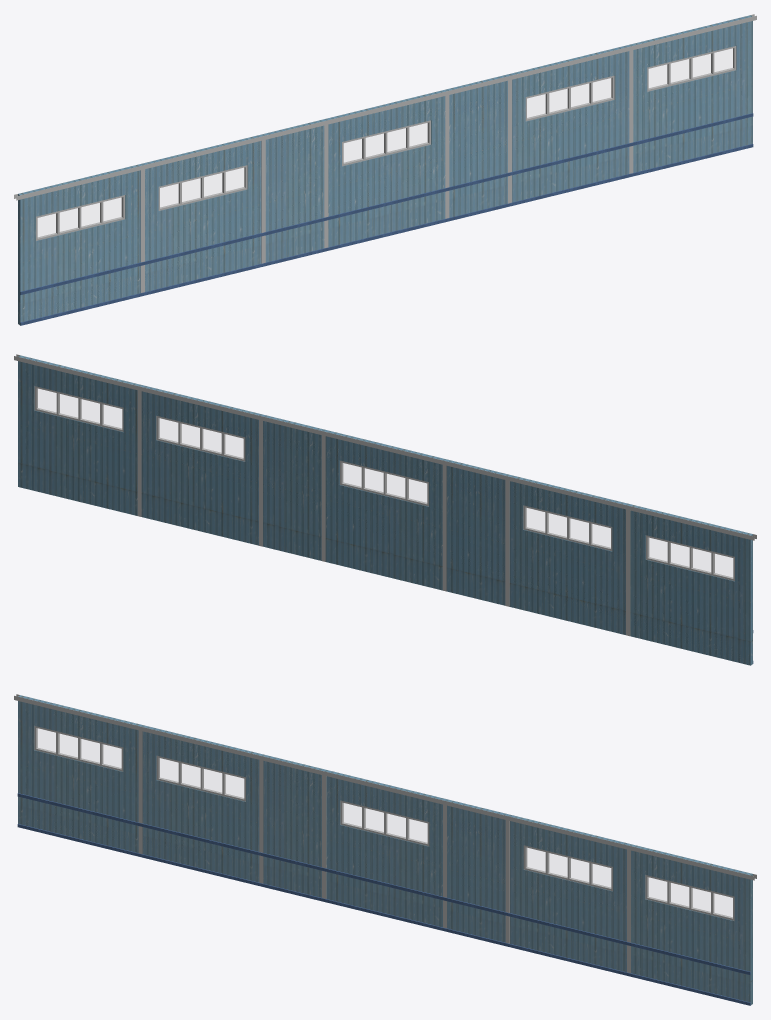
The model's file is WarehauseWallLeft.FBX.
3 views of the same model, one above another, from view 1: azimuth 30°, elevation 25°; view 2: azimuth 150°, elevation 25°; view 3: azimuth 330°, elevation 25° (orthographic).
Visible parts, largest first — view 1: WarehauseWallLeft, WarehauseMetal01, WarehauseMetal02, WarehauseWindows; view 2: WarehauseWallLeft, WarehauseMetal01, WarehauseWindows; view 3: WarehauseWallLeft, WarehauseMetal01, WarehauseMetal02, WarehauseWindows.
Boxes of the visible parts, x1,y1,x2,y2 form: WarehauseWallLeft: [18, 15, 752, 325]; WarehauseMetal01: [14, 14, 756, 292]; WarehauseMetal02: [20, 113, 753, 325]; WarehauseWindows: [36, 46, 736, 240]; WarehauseWallLeft: [18, 355, 752, 665]; WarehauseMetal01: [14, 354, 756, 636]; WarehauseWindows: [34, 386, 734, 580]; WarehauseWallLeft: [18, 695, 752, 1005]; WarehauseMetal01: [14, 694, 756, 973]; WarehauseMetal02: [17, 793, 750, 1005]; WarehauseWindows: [34, 726, 734, 920].
Bounding box in the file's own units: 1461 × 245 × 9.21.
